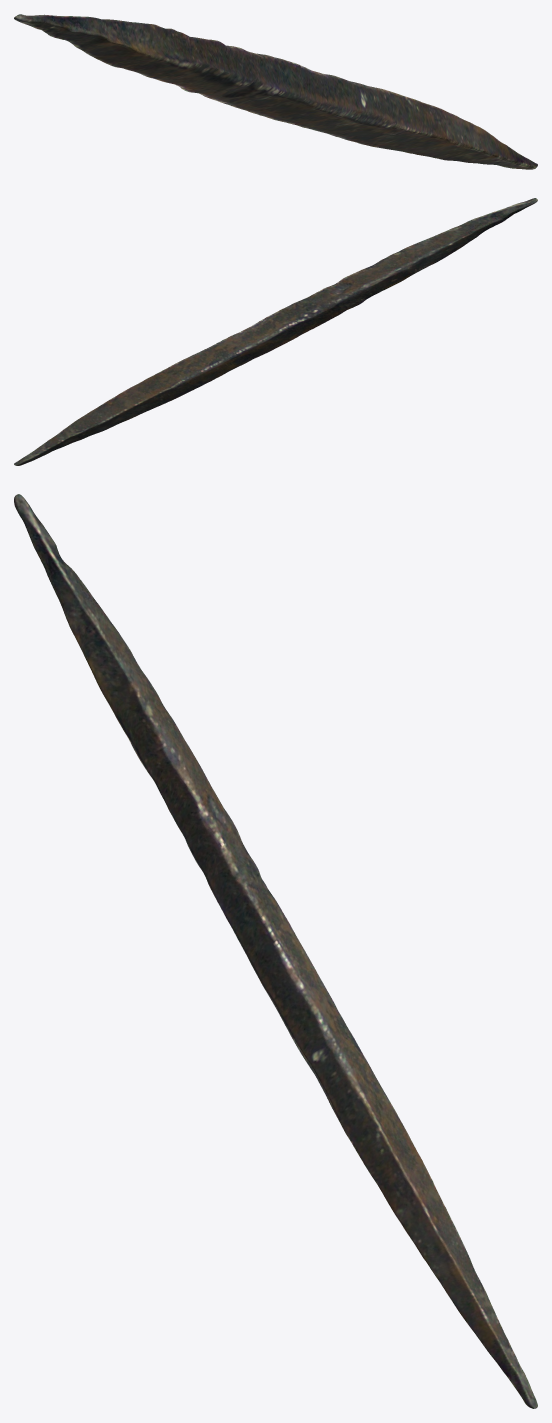
Rendered from metallobjekt.gltf.
3 renders of one model, top to bottom at view 1: azimuth 30°, elevation 25°; view 2: azimuth 150°, elevation 25°; view 3: azimuth 270°, elevation 25°, orthographic. The views are drawn at different scales.
Visible parts, largest first — view 1: Node1; view 2: Node1; view 3: Node1.
Boxes of the visible parts, x1,y1,x2,y2 form: Node1: [14, 14, 537, 169]; Node1: [14, 198, 537, 465]; Node1: [14, 494, 537, 1408].
Bounding box in the file's own units: 187 × 121 × 108.
Materials: 1 (1 with a texture image).
